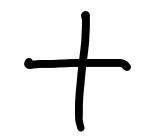plus: (24, 11, 132, 132)
